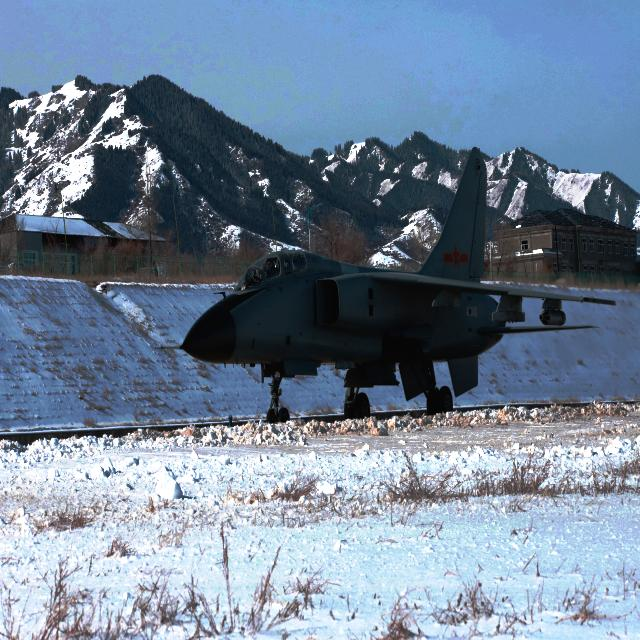Aircraft: (153, 139, 620, 420)
